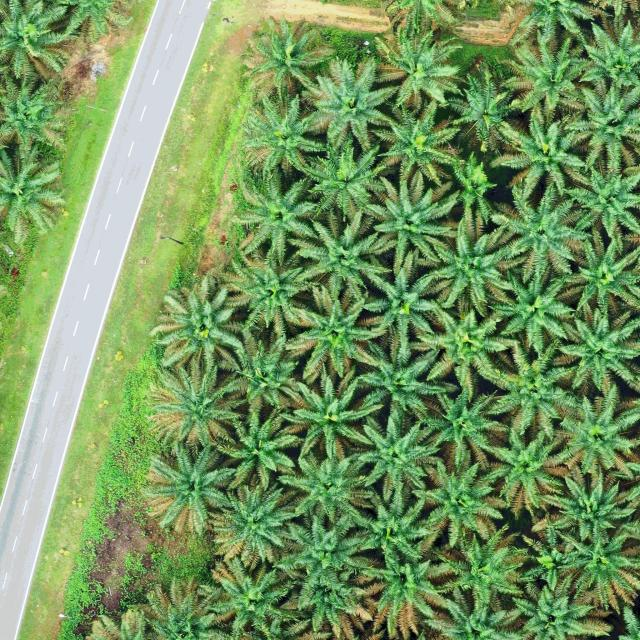Tree: (488, 176, 598, 284), (482, 335, 585, 446), (300, 50, 400, 160), (352, 173, 459, 274), (274, 364, 383, 463), (226, 162, 322, 272), (414, 225, 520, 319), (353, 345, 459, 439), (423, 517, 532, 608), (352, 254, 443, 362), (487, 108, 589, 204), (418, 303, 522, 397), (287, 208, 389, 303), (405, 454, 505, 549), (278, 432, 380, 524), (534, 473, 640, 561), (217, 249, 323, 337), (276, 506, 386, 590), (147, 360, 243, 455), (286, 286, 386, 376), (352, 548, 446, 640), (478, 425, 573, 516), (559, 375, 640, 481), (196, 554, 298, 638), (142, 441, 232, 536), (483, 268, 580, 356), (369, 103, 462, 194), (548, 305, 640, 396), (424, 380, 514, 473), (238, 87, 326, 182), (559, 519, 640, 618), (371, 25, 463, 112), (442, 59, 527, 153), (288, 561, 389, 640), (561, 77, 640, 178), (346, 412, 439, 497), (558, 150, 640, 246), (208, 479, 295, 569), (549, 230, 640, 316), (303, 138, 394, 224), (504, 31, 593, 118), (158, 280, 246, 367), (217, 322, 301, 411), (0, 140, 68, 247), (348, 496, 435, 578), (243, 19, 334, 97), (212, 409, 301, 488), (511, 519, 586, 595), (0, 0, 71, 80), (0, 73, 69, 151), (436, 149, 500, 223)
